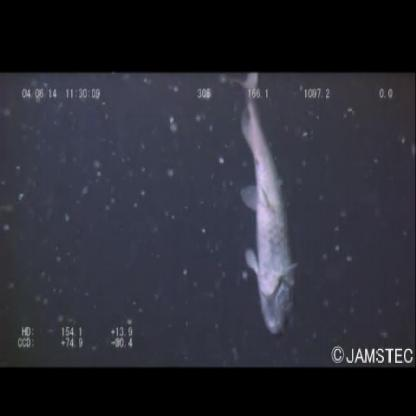Bio: (231, 70, 300, 338)
